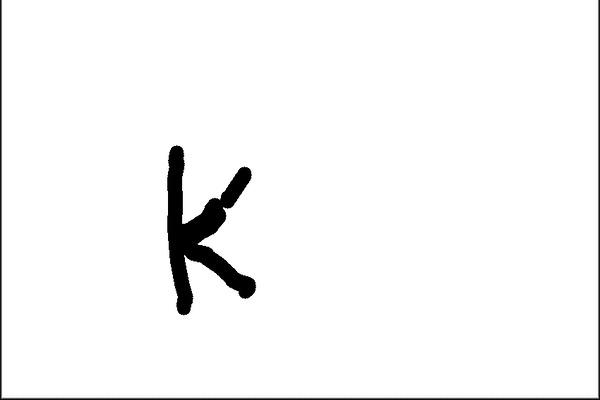K: (156, 141, 266, 321)
